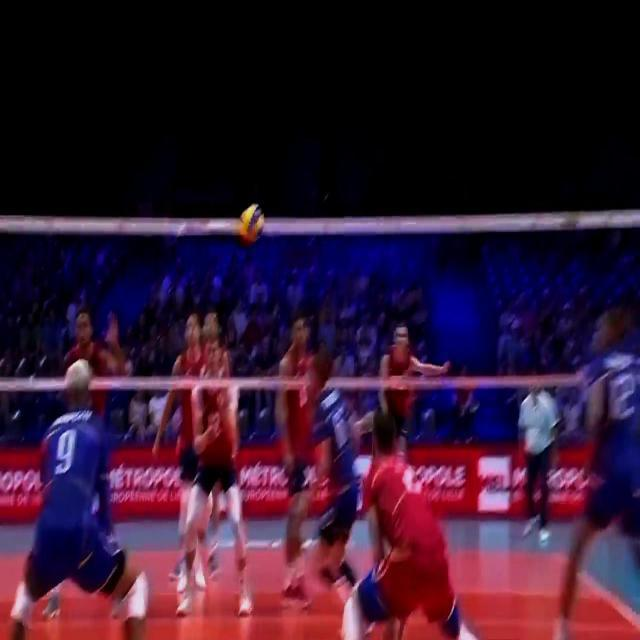volleyball: (237, 204, 267, 242)
